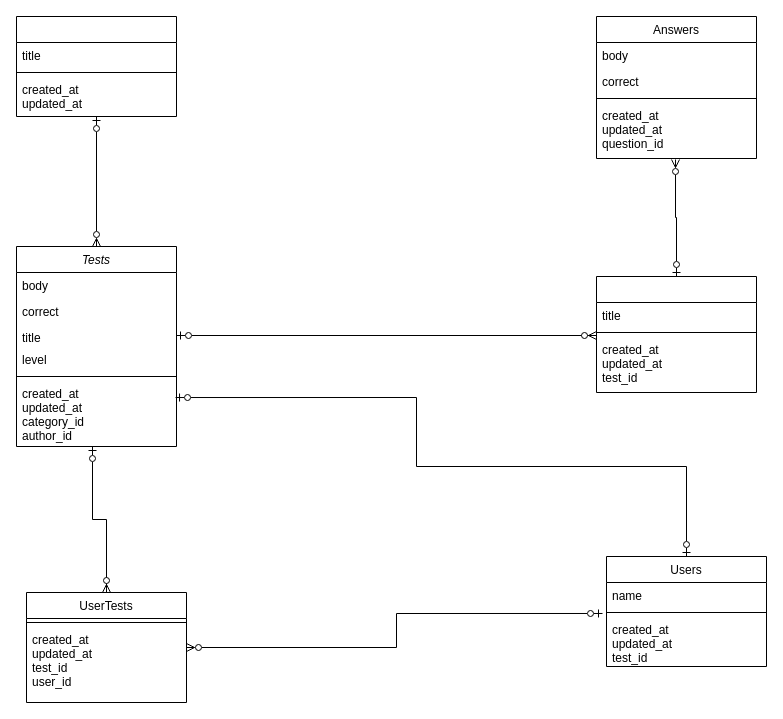
Image size: 783x719. Some labels were removed from this diagram. Here are the shapes that lost their labels. From the top down, the box of each, then its label:
(16, 16, 176, 116): categories
(596, 276, 756, 392): Questions
